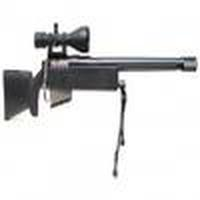gun: (1, 31, 200, 122)
